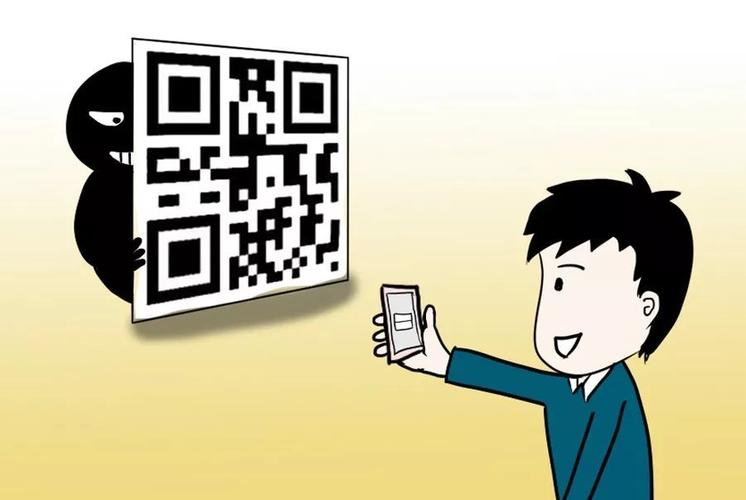QRCode: (136, 42, 364, 306)
